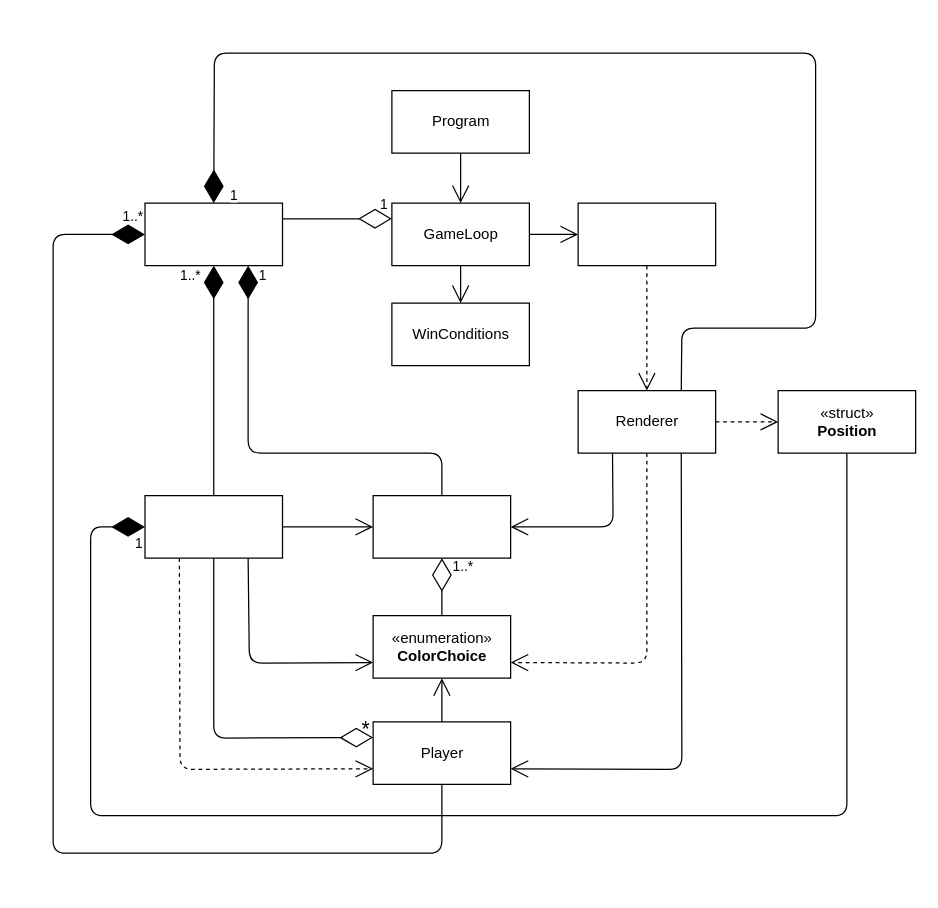
This 938x908 diagram has some shape labels left out. The box of each missing label's shape, as (x1, y1, x2, y2) in pixels:
Board: (372, 494, 511, 558)
GameInstance: (144, 202, 282, 266)
GameRules: (577, 202, 716, 266)
Piece: (144, 494, 282, 558)
